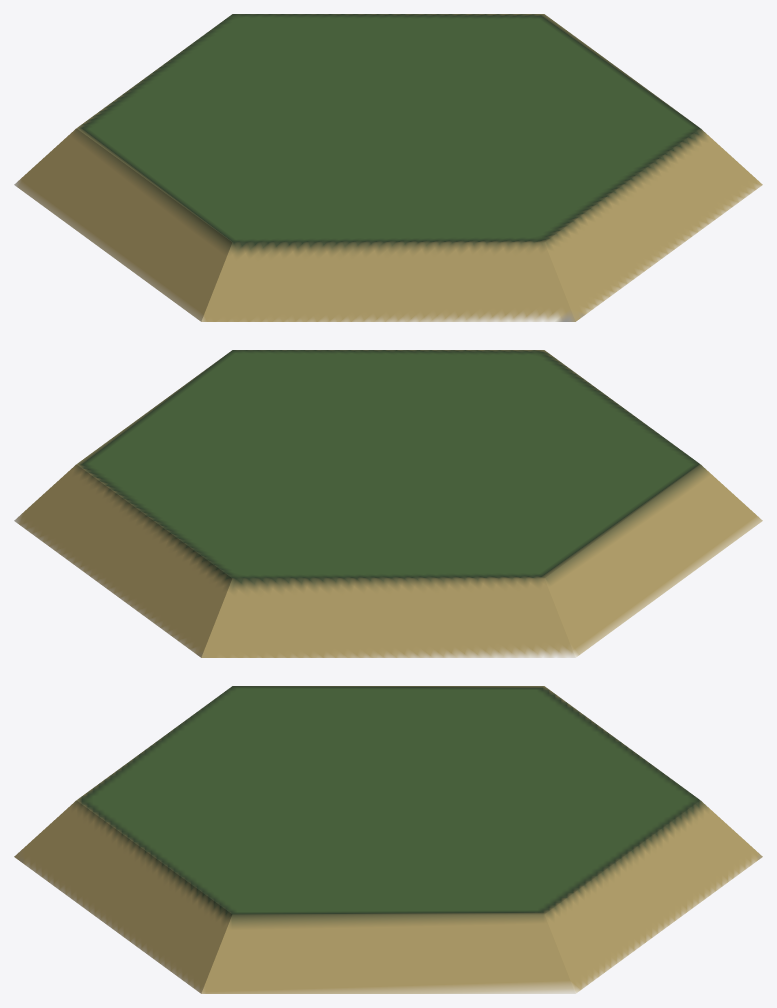
Rendered from Hex_Forest_Shore.fbx.
3 views of the same model, one above another, from view 1: azimuth 30°, elevation 25°; view 2: azimuth 150°, elevation 25°; view 3: azimuth 270°, elevation 25° (orthographic).
Visible parts, largest first — view 1: Hex_Forest_Shore; view 2: Hex_Forest_Shore; view 3: Hex_Forest_Shore.
Part boxes in pixels (x1,y1,x2,y2): Hex_Forest_Shore: [14, 14, 762, 321]; Hex_Forest_Shore: [14, 350, 762, 657]; Hex_Forest_Shore: [14, 686, 762, 993].
Size of the model in its own units: 1039 by 100 by 1200.
Materials: 1 (1 with a texture image).
